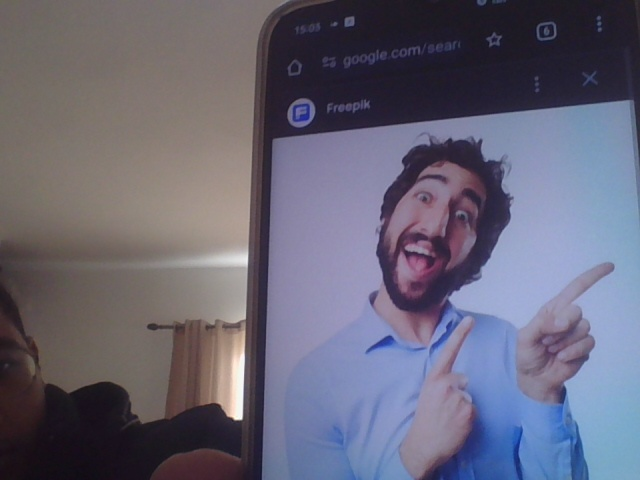fake: (377, 128, 497, 298)
